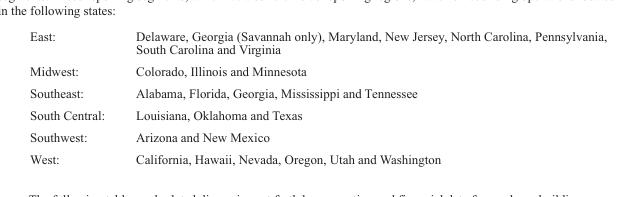table: (29, 28, 606, 165)
table column: (119, 28, 606, 165), (29, 28, 119, 165)
table row: (29, 28, 606, 59), (29, 59, 606, 81), (29, 81, 606, 103), (29, 103, 606, 125), (29, 125, 606, 147), (29, 147, 606, 165)
